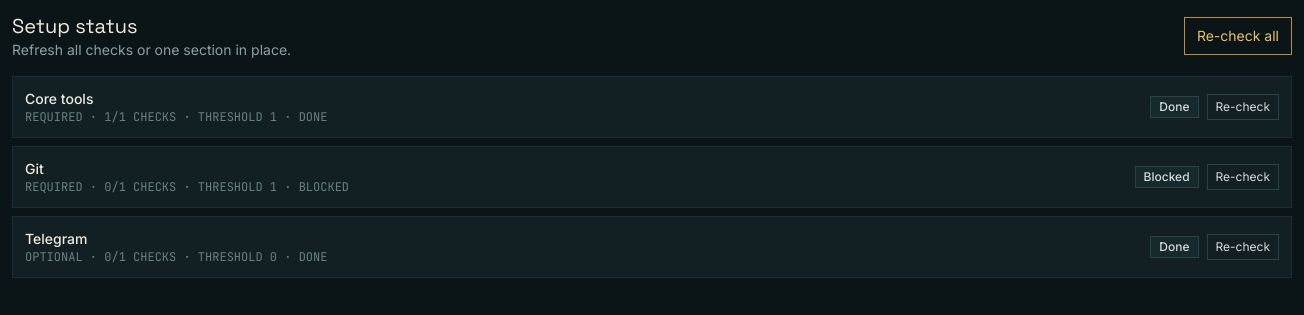
Test case: Settings re-check controls › AC-19 keeps errors visible in the affected section
Click the button "Re-check" in the row of "Core tools": (1243,107) left=1206, top=94, right=1279, bottom=120
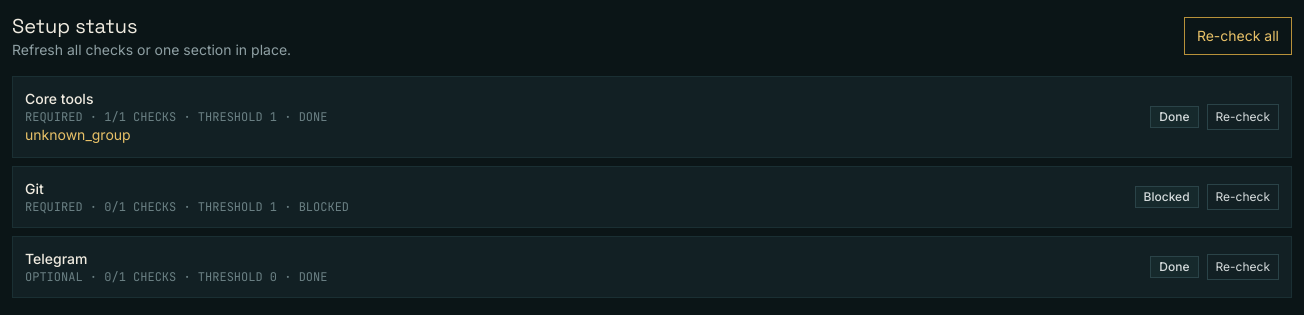
Check: the text "unknown_group" is shown, box left=25, top=126, right=131, bottom=143
